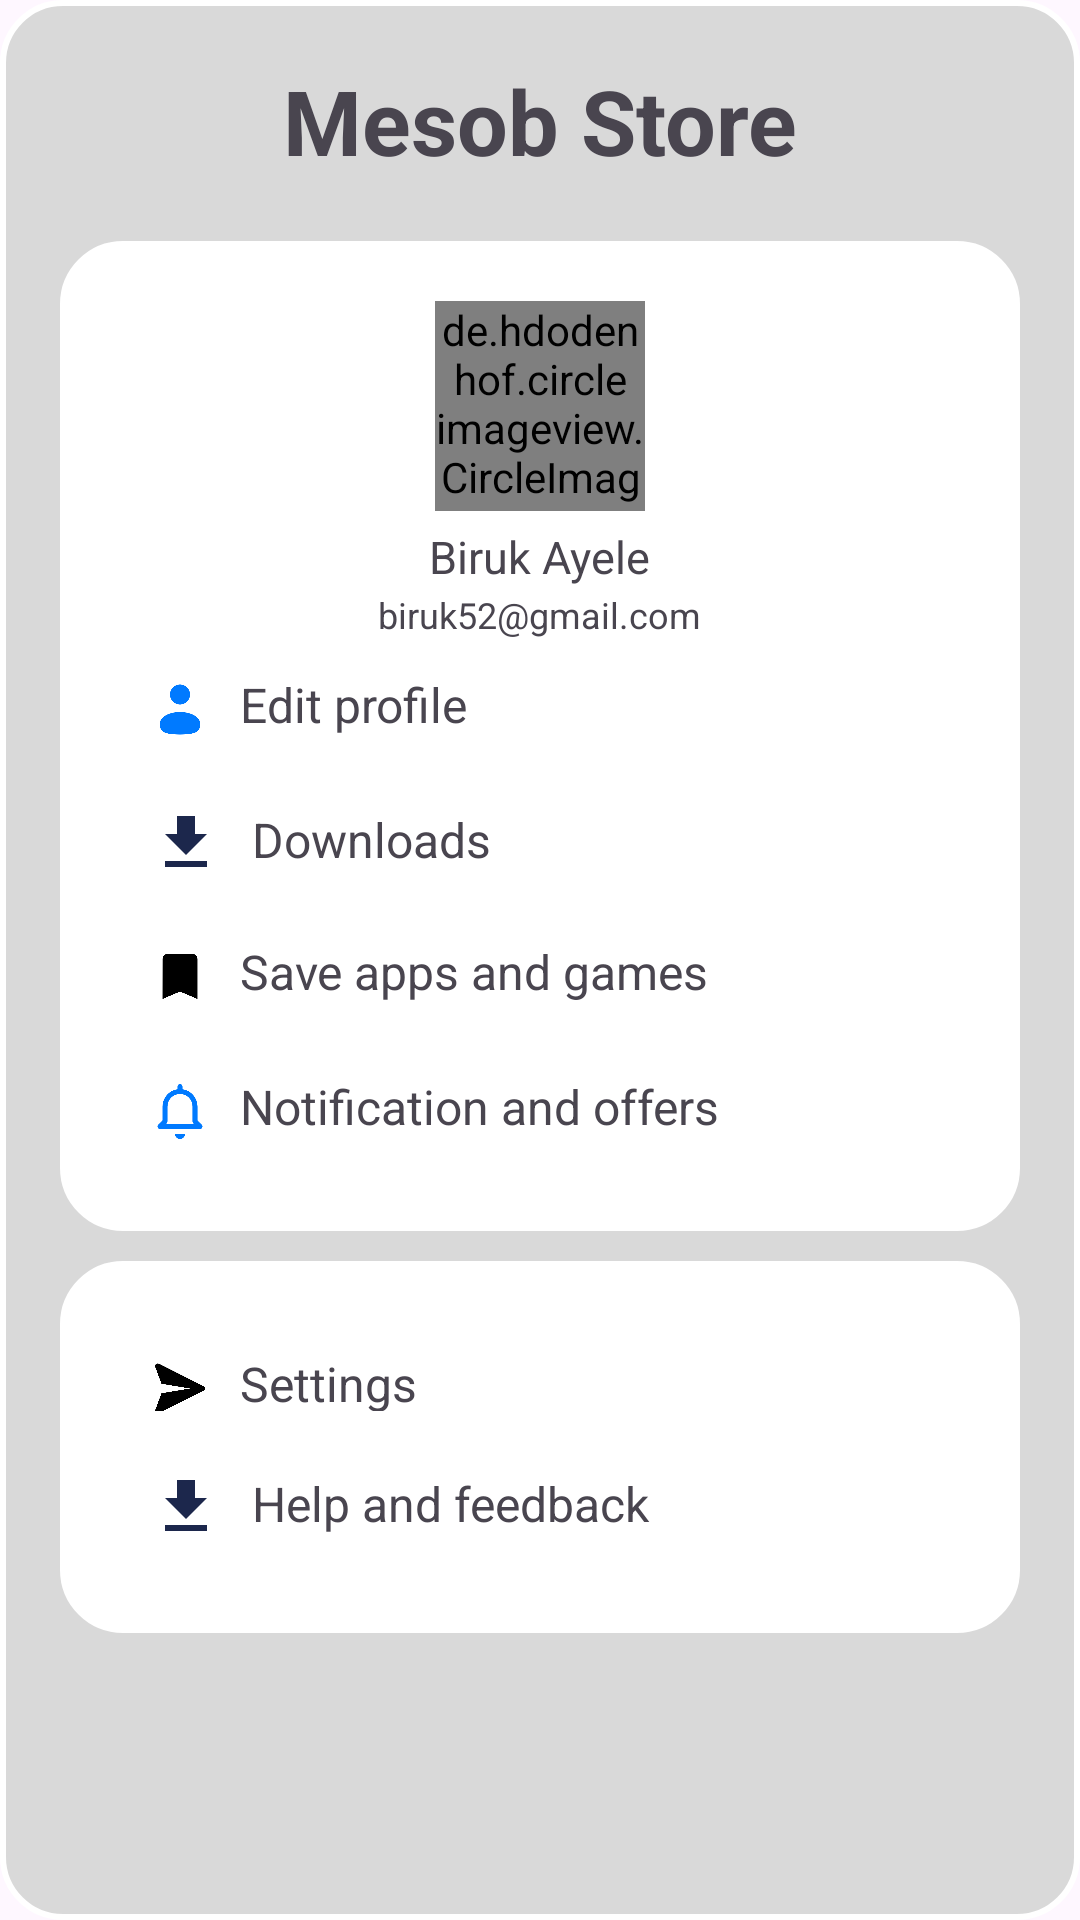

Locate icon controls on the screen. Image size 1080×1920, boxes as [left=x1, top=y1, right=x2, bottom=y2].
downloadicon: [left=165, top=816, right=207, bottom=867], [left=165, top=1480, right=207, bottom=1531]
notifiy: [left=157, top=1084, right=203, bottom=1139]
saved: [left=162, top=954, right=198, bottom=999]
send: [left=155, top=1363, right=205, bottom=1411]
user: [left=160, top=684, right=200, bottom=735]
